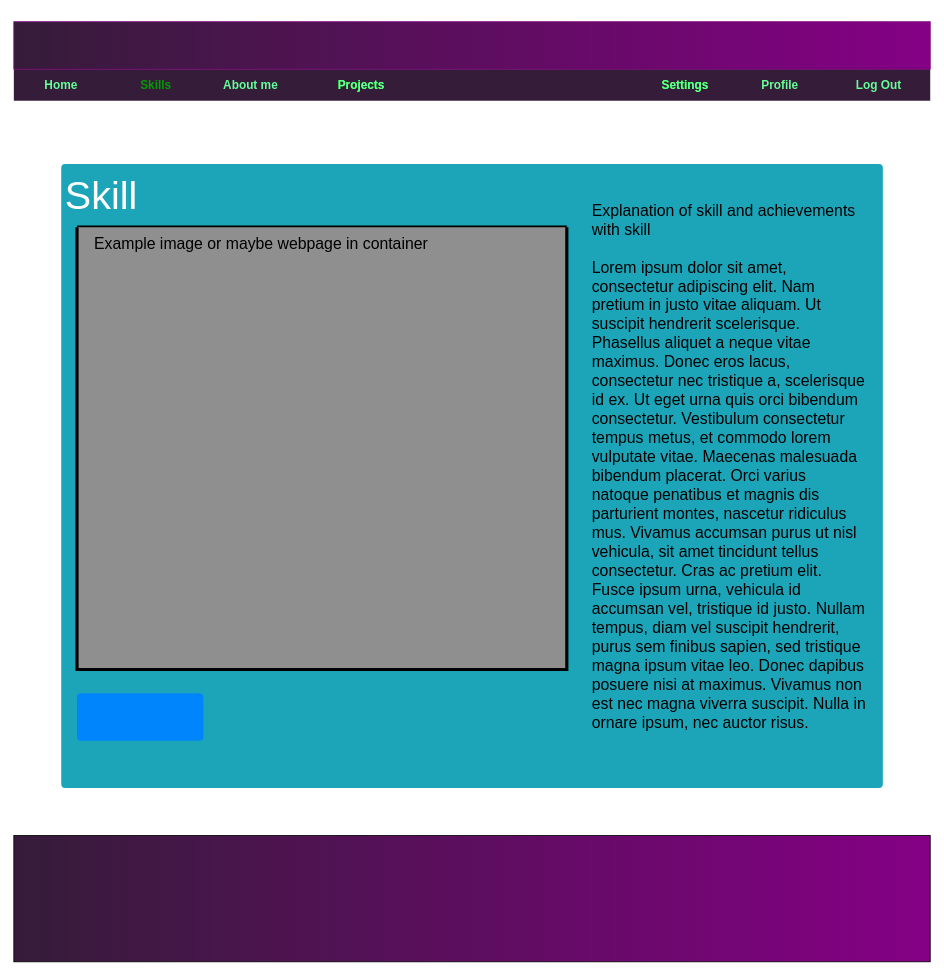
This 944x976 diagram has some shape labels left out. Here are the shapes that lost their labels. From the top down, the centre of each, then its label:
At [471,45]: "EwanEdwardDunn .com".
At [140,716]: "download as pdf/file/etc.".
